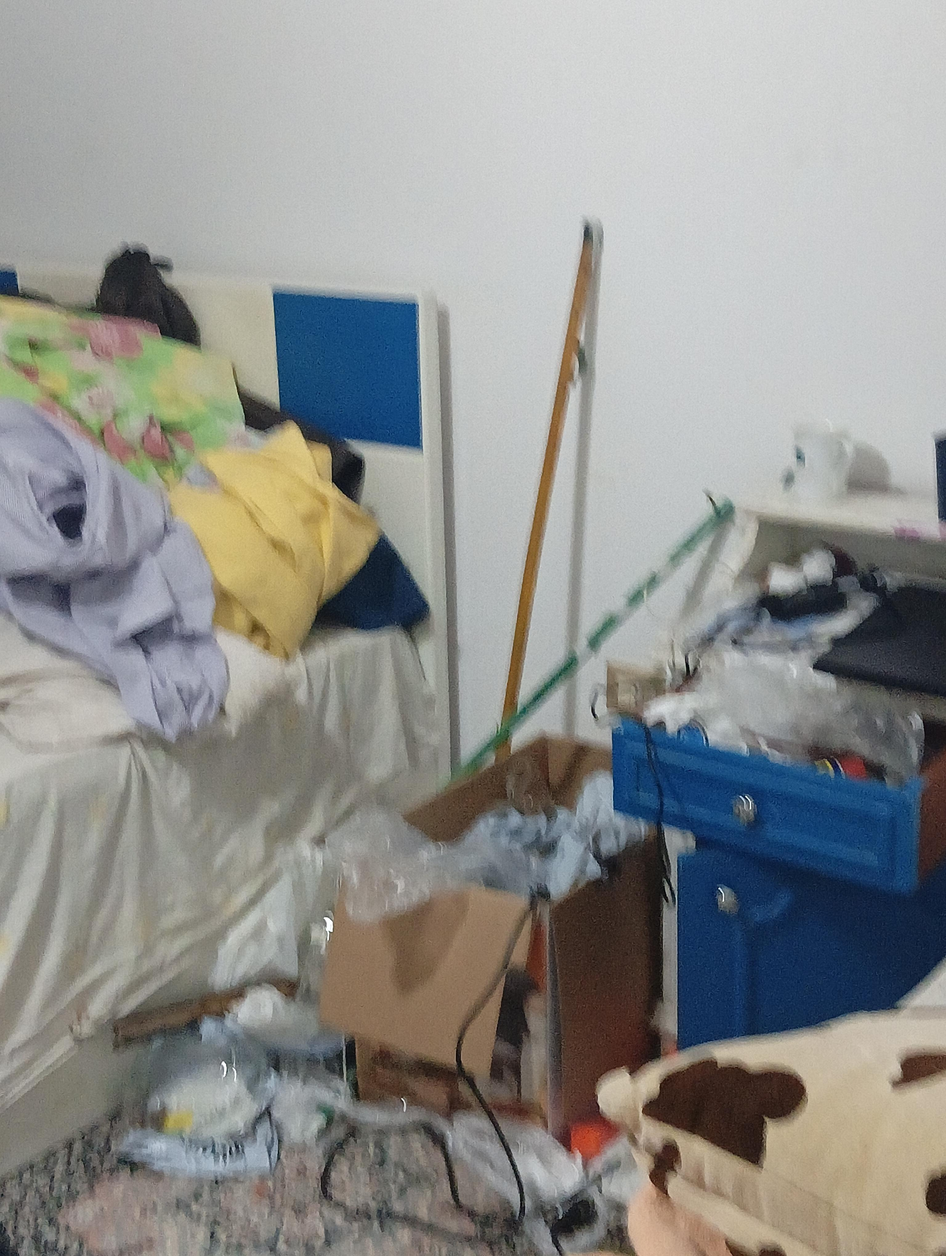cup: (786, 425, 854, 501), (934, 432, 946, 521)
